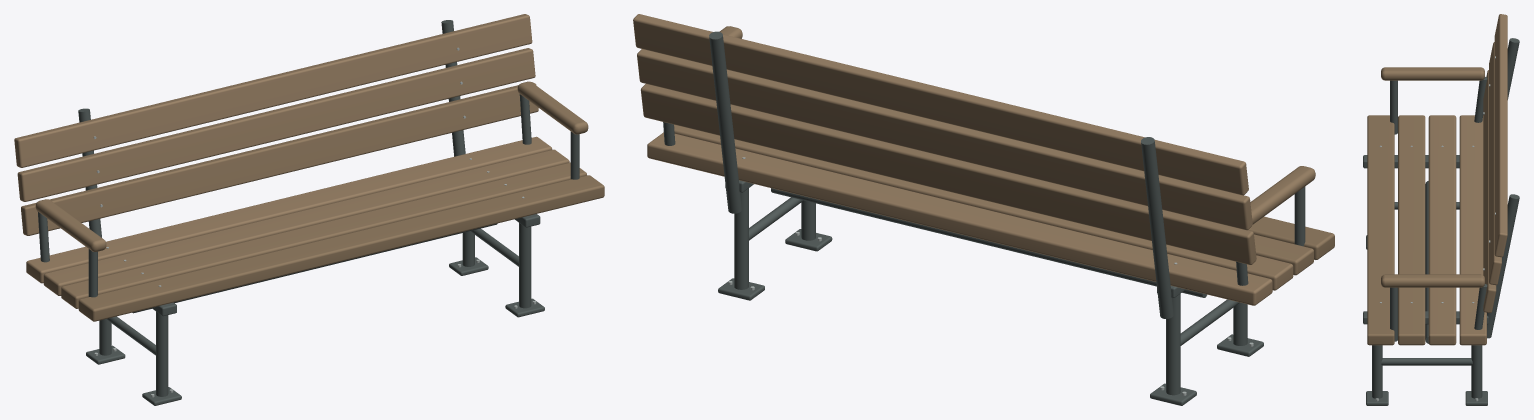
The model's file is bus_bench.glb.
The picture shows the model from 3 angles, left to right: view 1: azimuth 30°, elevation 25°; view 2: azimuth 150°, elevation 25°; view 3: azimuth 270°, elevation 25°; orthographic projection. The views are drawn at different scales.
Parts seen in each view (by area): view 1: bus_bench / Oiled ash 1, bus_bench / Oiled ash 2, bus_bench / Oiled ash 3, bus_bench / Oiled ash 0, bus_bench / Weathered charcoal powdercoat; view 2: bus_bench / Oiled ash 3, bus_bench / Oiled ash 2, bus_bench / Oiled ash 1, bus_bench / Weathered charcoal powdercoat, bus_bench / Oiled ash 0; view 3: bus_bench / Oiled ash 1, bus_bench / Oiled ash 3, bus_bench / Oiled ash 2, bus_bench / Weathered charcoal powdercoat, bus_bench / Oiled ash 0.
Boxes of the visible parts, bbox=[...] form: bus_bench / Oiled ash 1: bbox=[21, 81, 588, 308]; bus_bench / Oiled ash 2: bbox=[17, 48, 569, 295]; bus_bench / Oiled ash 3: bbox=[14, 14, 552, 283]; bus_bench / Oiled ash 0: bbox=[78, 175, 604, 321]; bus_bench / Weathered charcoal powdercoat: bbox=[37, 20, 579, 405]; bus_bench / Oiled ash 3: bbox=[633, 14, 1272, 305]; bus_bench / Oiled ash 2: bbox=[637, 49, 1293, 290]; bus_bench / Oiled ash 1: bbox=[640, 26, 1315, 275]; bus_bench / Weathered charcoal powdercoat: bbox=[663, 31, 1305, 405]; bus_bench / Oiled ash 0: bbox=[1248, 216, 1334, 259]; bus_bench / Oiled ash 1: bbox=[1381, 67, 1496, 345]; bus_bench / Oiled ash 3: bbox=[1459, 14, 1507, 345]; bus_bench / Oiled ash 2: bbox=[1428, 42, 1501, 345]; bus_bench / Weathered charcoal powdercoat: bbox=[1363, 38, 1519, 405]; bus_bench / Oiled ash 0: bbox=[1367, 115, 1394, 345].
Bounding box in the file's own units: 2.2 × 0.954 × 0.6616.
